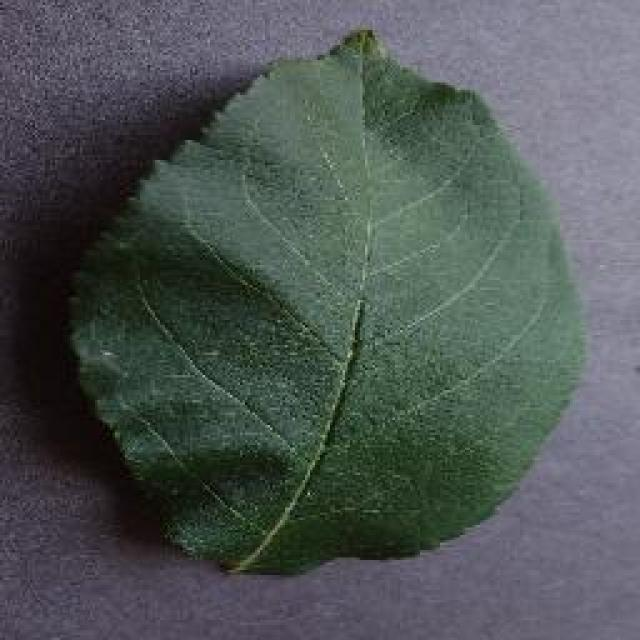apple healthy: (62, 25, 590, 575)
